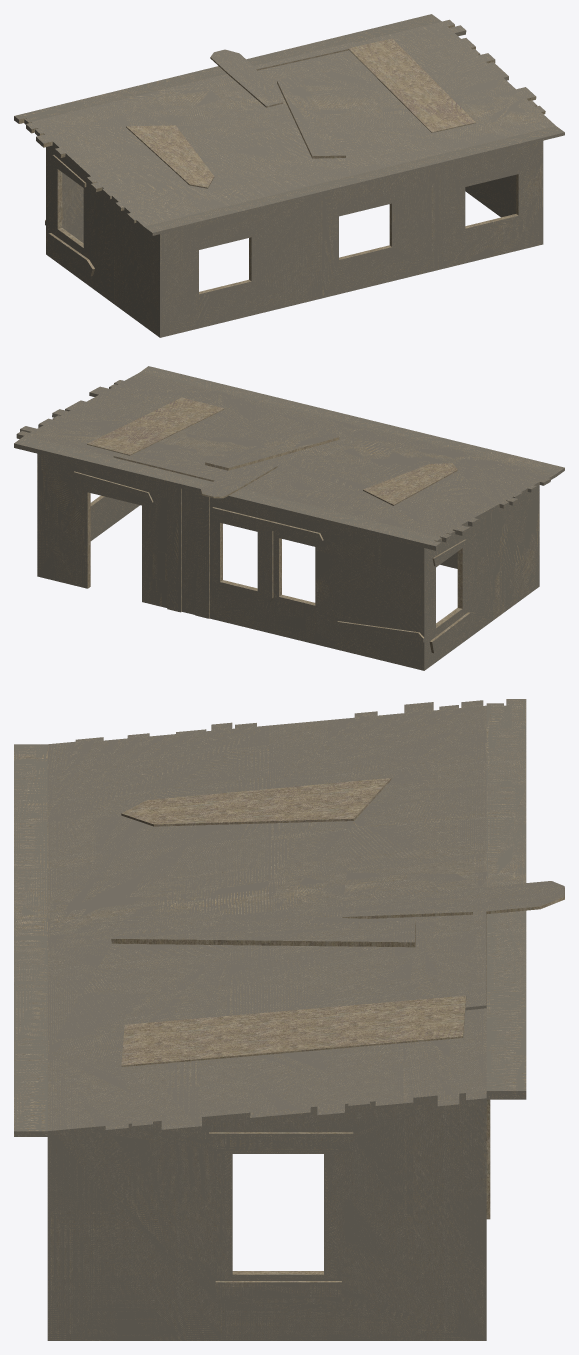
File: House 4.fbx
3 views of the same model, one above another, from view 1: azimuth 30°, elevation 25°; view 2: azimuth 150°, elevation 25°; view 3: azimuth 270°, elevation 25° (orthographic). The views are drawn at different scales.
Parts seen in each view (by area): view 1: Model; view 2: Model; view 3: Model.
Boxes of the visible parts, bbox=[...] form: Model: bbox=[14, 14, 564, 337]; Model: bbox=[14, 366, 564, 670]; Model: bbox=[14, 699, 564, 1340].
Size of the model in its own units: 1690 by 529 by 972.
